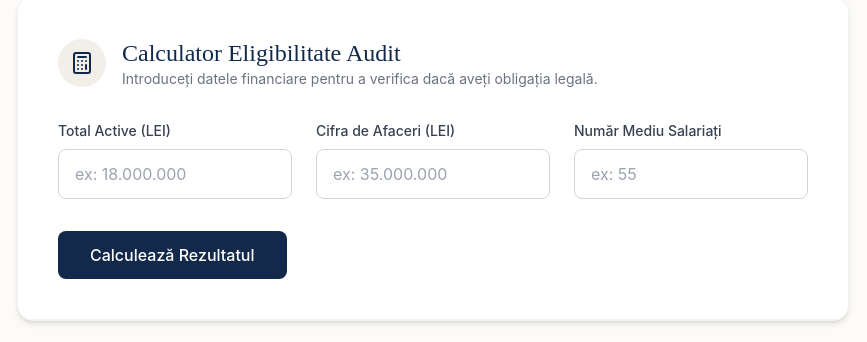
Test: AuditCalculator component › keeps only digits when mixed characters are entered
The width and height of the screenshot is (867, 342).
In the field with placeholder "ex: 18.000.000": (175, 174) [58,149,292,199], type "12ab34"
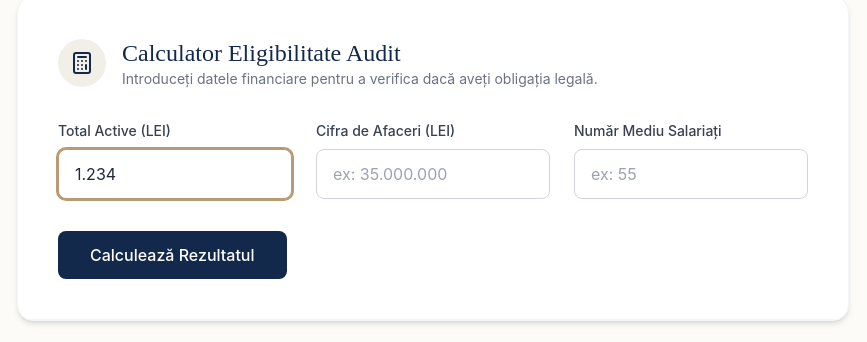
Expected: the 1st field holds "1.234", [58,149,292,199]
